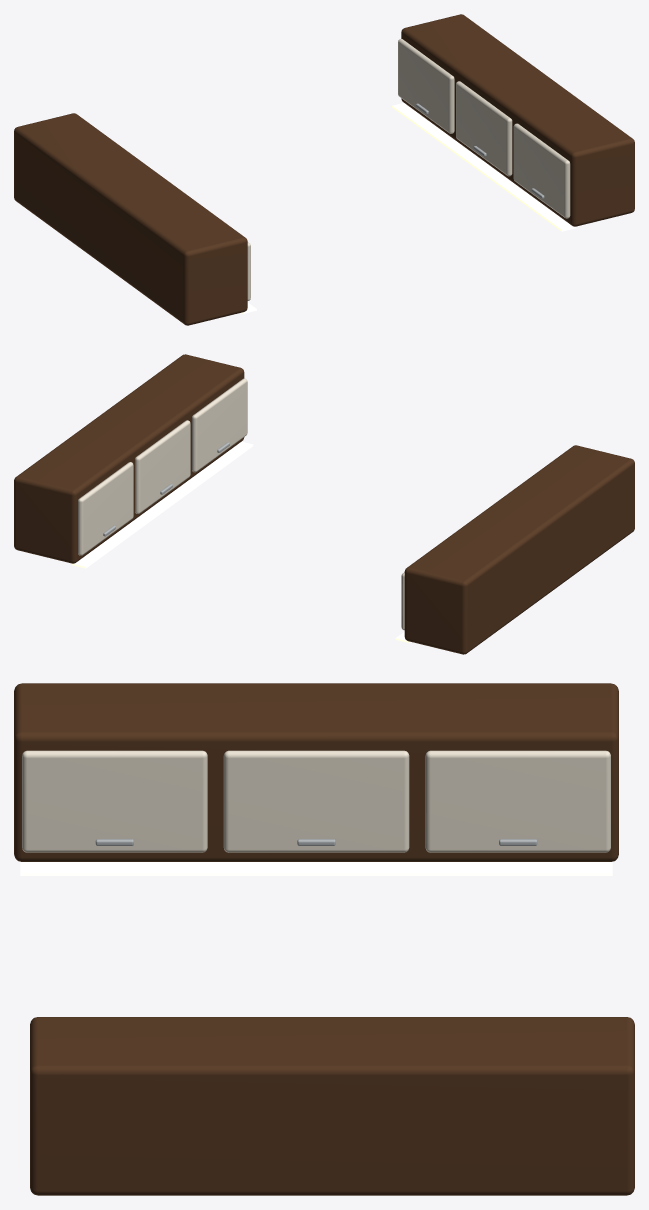
Rendered from lockers.glb.
The picture shows the model from 3 angles, top to bottom: view 1: azimuth 30°, elevation 25°; view 2: azimuth 150°, elevation 25°; view 3: azimuth 270°, elevation 25°; orthographic projection. The views are drawn at different scales.
Parts seen in each view (by area): view 1: lockers_off, lockers_kerb, lockers_details; view 2: lockers_kerb, lockers_off, lockers_details; view 3: lockers_kerb, lockers_off, lockers_details.
Boxes of the visible parts, box(x1,y1,x2,y2) form: lockers_off: box(14, 113, 250, 325); lockers_kerb: box(398, 14, 634, 226); lockers_details: box(241, 103, 576, 313); lockers_kerb: box(14, 354, 247, 563); lockers_off: box(401, 445, 634, 654); lockers_details: box(72, 441, 410, 642); lockers_kerb: box(30, 1017, 634, 1195); lockers_off: box(14, 683, 618, 861); lockers_details: box(20, 861, 612, 875).
Bounding box in the file's own units: 2.88 × 0.461 × 1.95.
